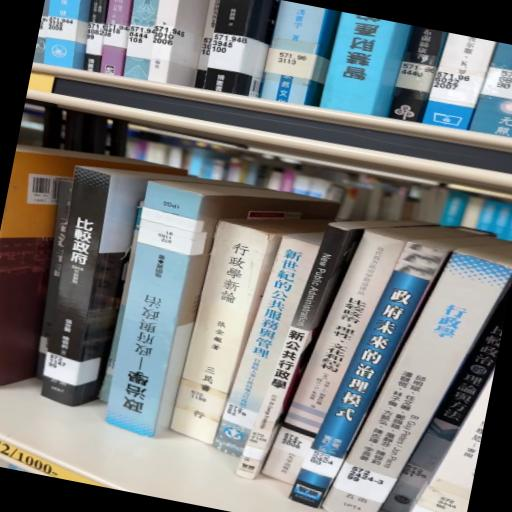reverse: (106, 180, 337, 438)
